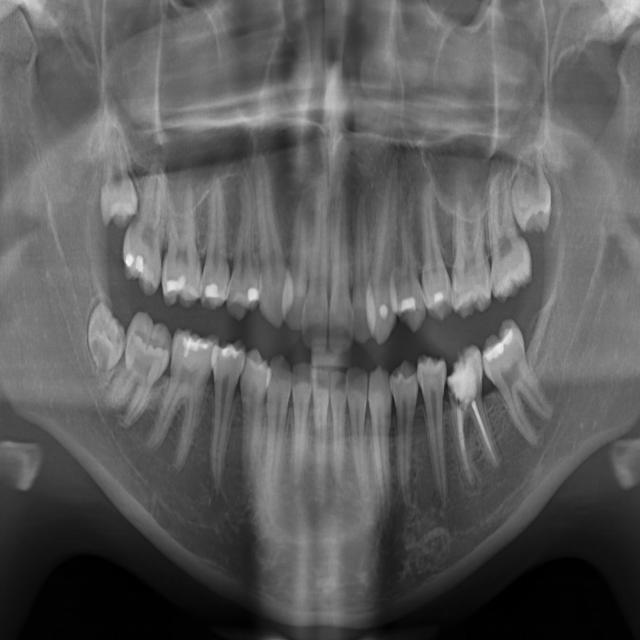3M ESPE Implant: (99, 123, 138, 230)
AGS Medikal Implant: (351, 176, 371, 349)
AMerOss Implant: (370, 143, 399, 349)
Amalgam filling: (388, 179, 428, 337)
Anthogyr Implant: (415, 170, 453, 326)
Bicon Implant: (446, 192, 494, 322)
BioHorizons Implant: (482, 164, 536, 307)
BioLife Implant: (511, 145, 552, 234)
Blue Sky Bio Implant: (467, 312, 568, 460)
Camlog Implant: (441, 339, 506, 494)
Caries: (117, 155, 171, 300)
Composite filling: (415, 347, 468, 518)
Cowellmedi Implant: (390, 355, 429, 519)
Crown: (365, 360, 404, 539)
DENTSPLY Implant: (346, 363, 373, 505)
Dentatus Implant: (330, 368, 350, 495)
Dentis Implant: (311, 367, 331, 508)
Dentium Implant: (291, 360, 313, 492)
Euroteknika Implant: (258, 351, 294, 504)
Filling: (228, 342, 270, 507)
Frontier Implant: (191, 331, 249, 501)
Hiossen Implant: (160, 172, 206, 312)
Implant: (97, 306, 183, 437)
Implant Direct: (137, 320, 222, 475)
Keystone Dental Implant: (85, 296, 127, 375)
MIS Implant: (199, 169, 238, 314)
Mandible: (223, 160, 269, 324)
Maxilla: (253, 143, 288, 336)
Megagen Implant: (284, 181, 313, 334)
Neodent Implant: (301, 171, 331, 356)
Neoss Implant: (328, 172, 356, 356)
